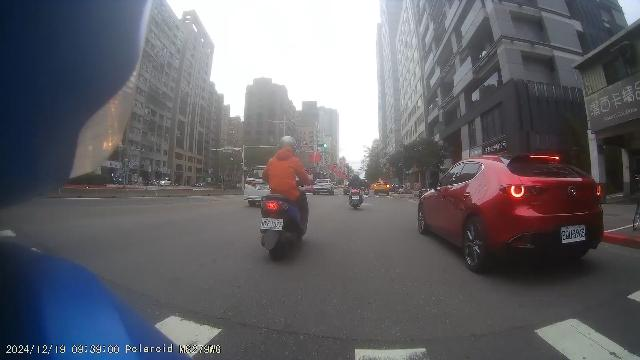plate: (561, 225, 586, 243)
